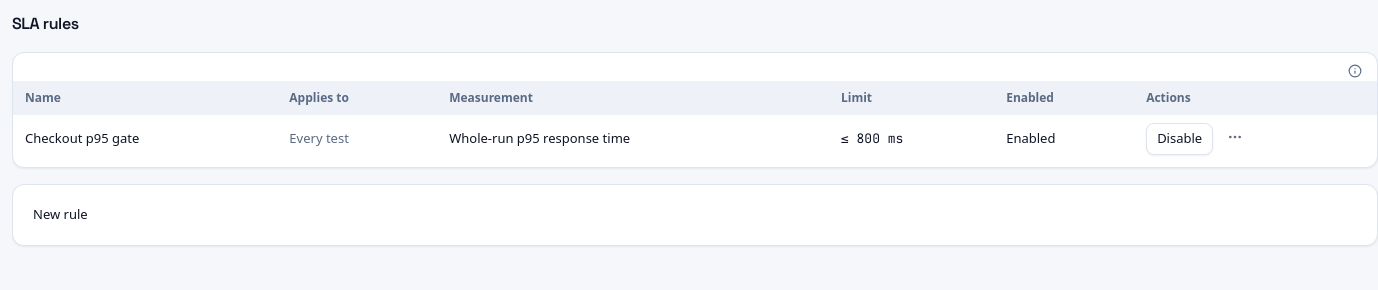
Test: ProjectRules — the table › keeps one primary action on screen while a delete is armed
Click the button named "more actions". click: [1235, 137]
box: 1221,123 -> 1249,151
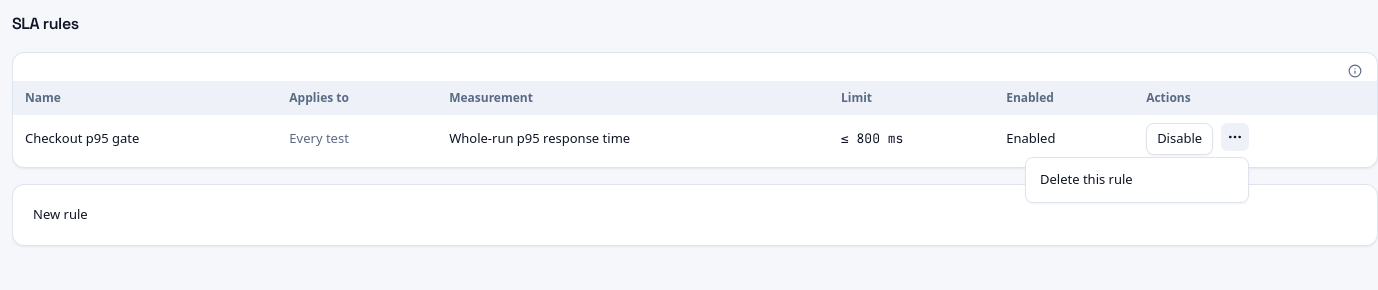
Click the menu item "Delete this rule". click: [1086, 179]
box: 1040,170 -> 1133,188
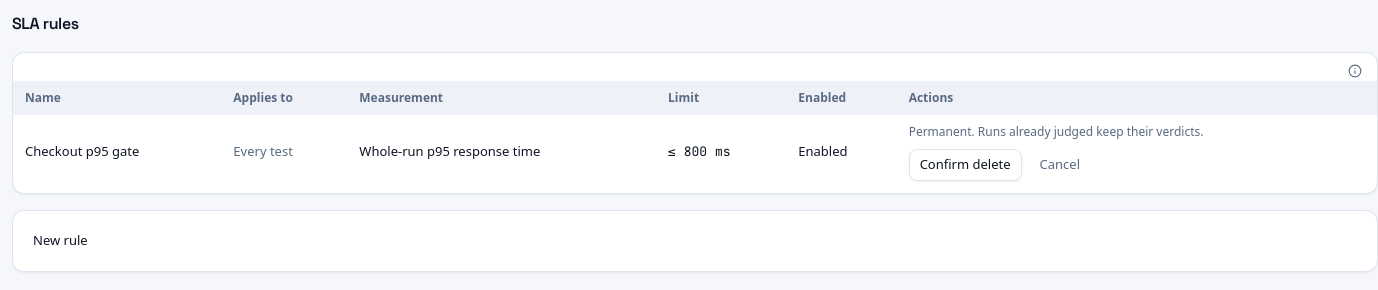
Expected: the button "Confirm delete" is shown, 909,149 -> 1022,181
